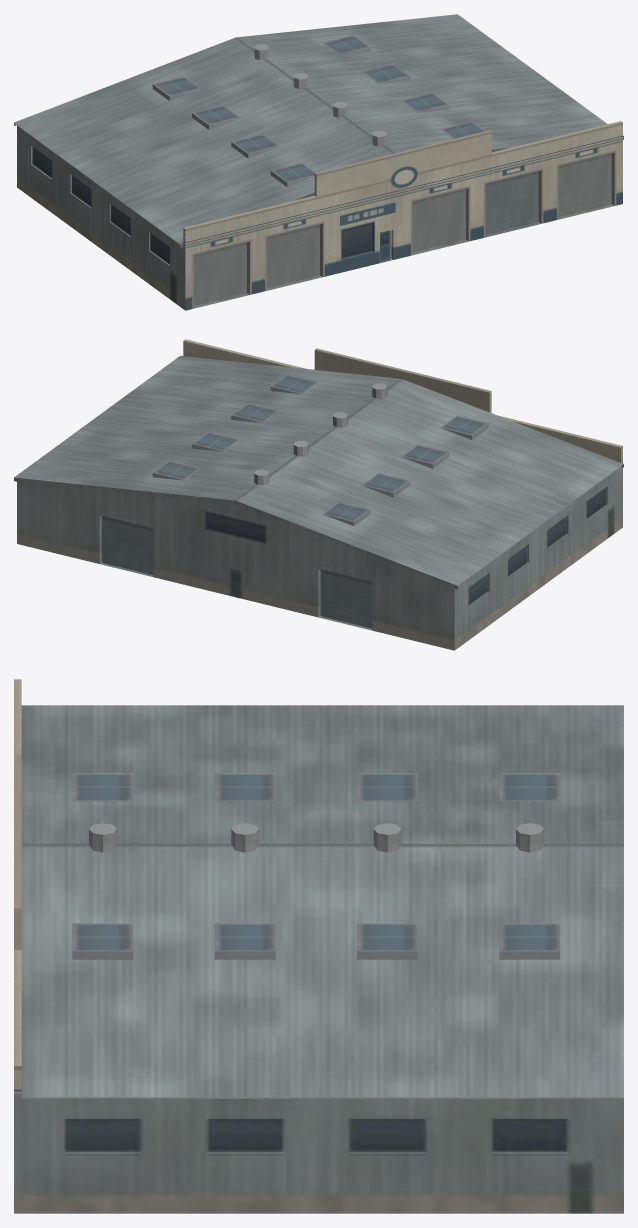
The model's file is sf_warehouse_c.glb.
3 renders of one model, top to bottom at view 1: azimuth 30°, elevation 25°; view 2: azimuth 150°, elevation 25°; view 3: azimuth 270°, elevation 25°, orthographic. The views are drawn at different scales.
Parts seen in each view (by area): view 1: sf_warehouse_c; view 2: sf_warehouse_c; view 3: sf_warehouse_c.
Part boxes in pixels (<box>): sf_warehouse_c: <box>14,14,623,310</box>; sf_warehouse_c: <box>14,339,623,650</box>; sf_warehouse_c: <box>14,679,623,1213</box>.
Size of the model in its own units: 36.5 by 8.3 by 24.
1 material, 1 textured.
